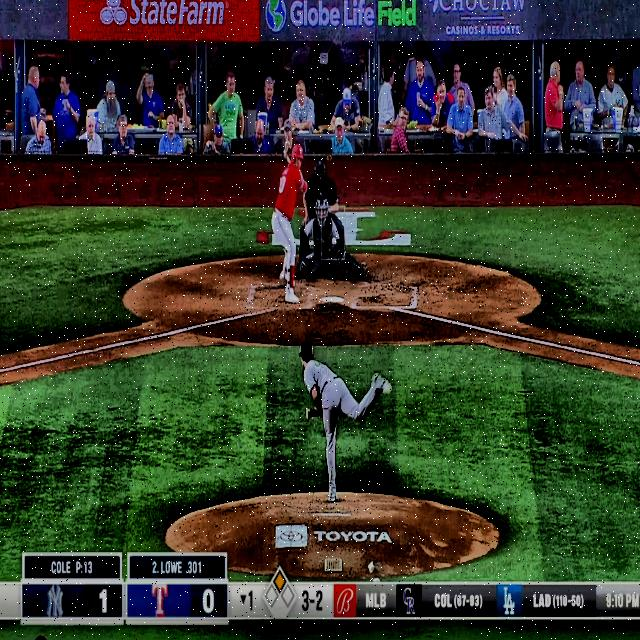baseball: (332, 237, 336, 245)
